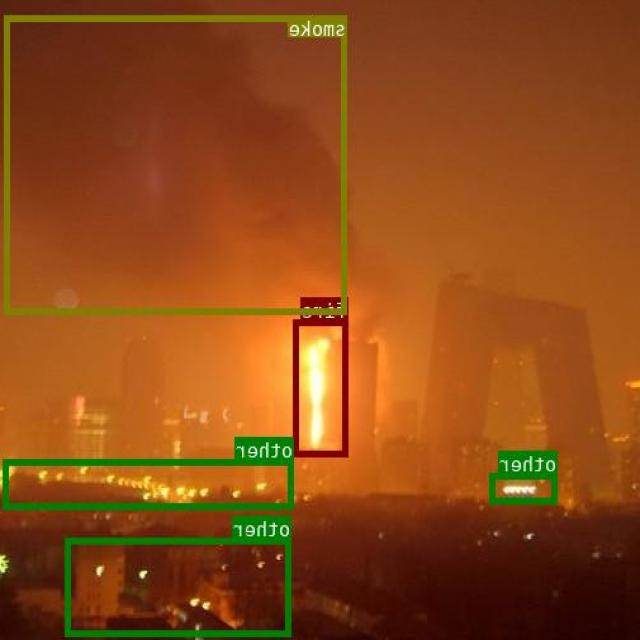fire: (295, 318, 350, 455)
other: (66, 538, 292, 636), (4, 458, 294, 508), (492, 472, 558, 502)
smoke: (6, 14, 348, 313)
